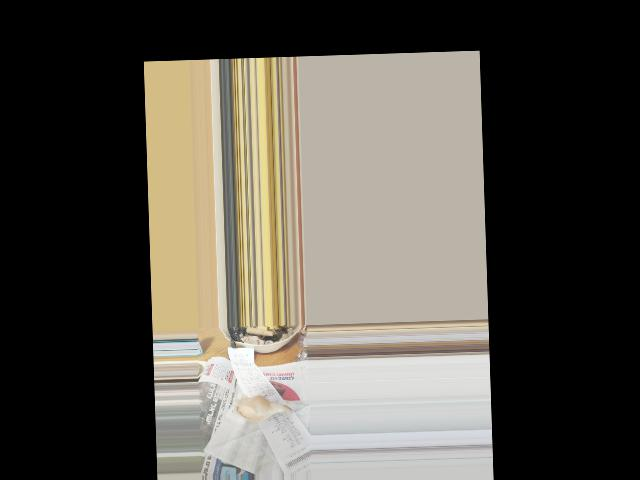onion: (237, 396, 276, 423)
